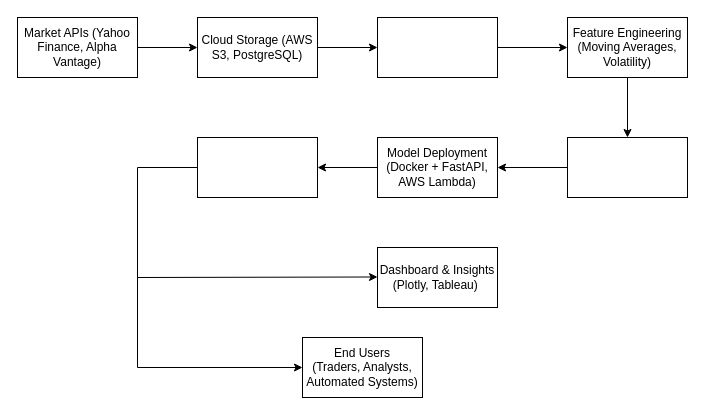
Some shapes in this 705 by 415 pixel diagram are drawn without their labels. The centre of each missing label's shape, as x and y in pixels:
ETL Pipeline (Apache Airflow): pixel 437 47
LSTM Model Training (GPU-Accelerated): pixel 627 167
REST API for Predictions: pixel 257 167
